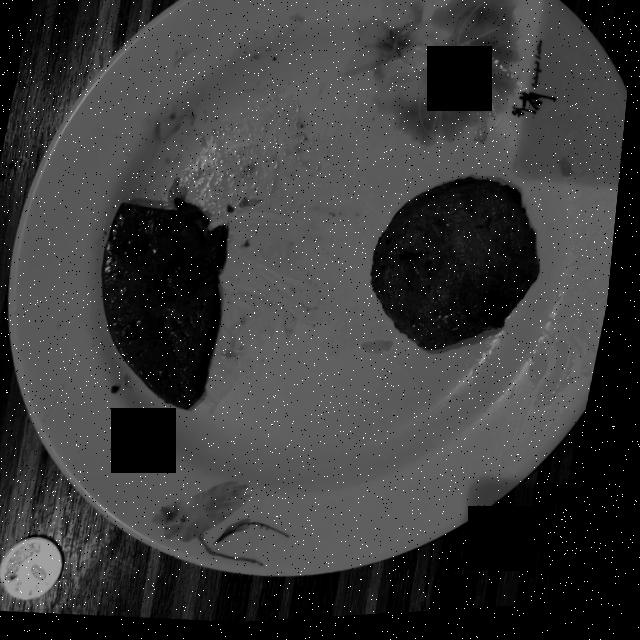coin: (10, 538, 74, 601)
fish cake: (377, 183, 545, 356)
pig liver: (107, 199, 231, 410)
